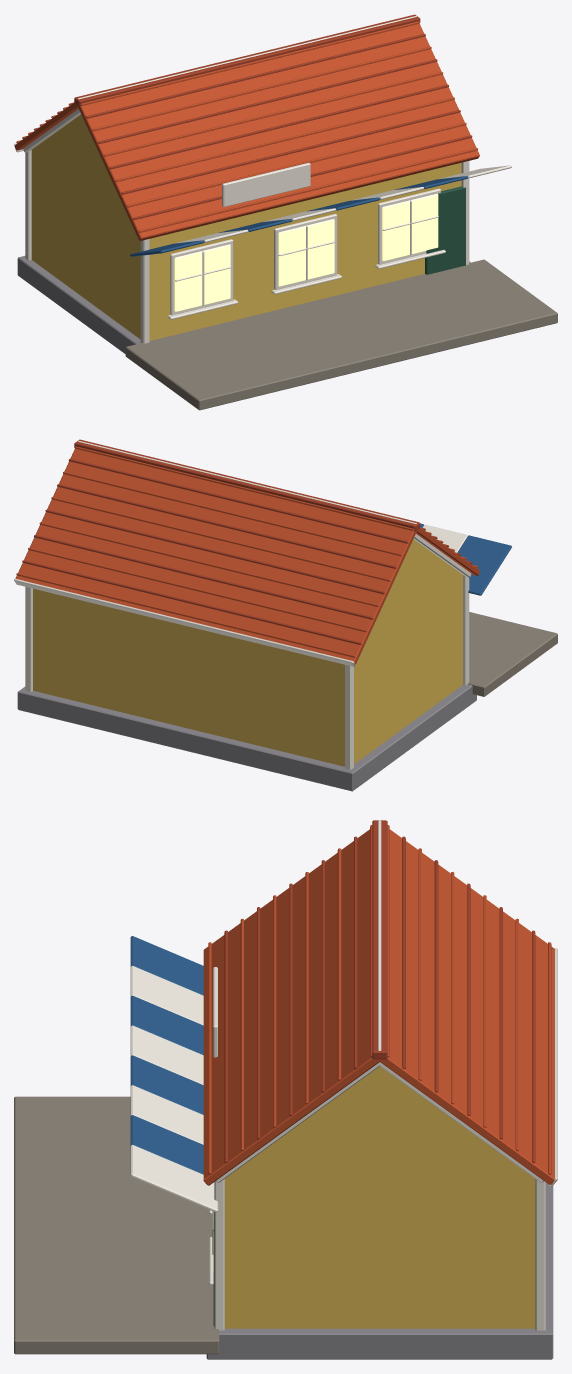
The model's file is cafe.glb.
3 renders of one model, top to bottom at view 1: azimuth 30°, elevation 25°; view 2: azimuth 150°, elevation 25°; view 3: azimuth 270°, elevation 25°, orthographic. The views are drawn at different scales.
Parts seen in each view (by area): view 1: cafe; view 2: cafe; view 3: cafe.
Boxes of the visible parts, <box> form: cafe: <box>14,14,557,410</box>; cafe: <box>14,439,557,791</box>; cafe: <box>14,820,557,1359</box>.
Size of the model in its own units: 9 by 5.35 by 8.47.
